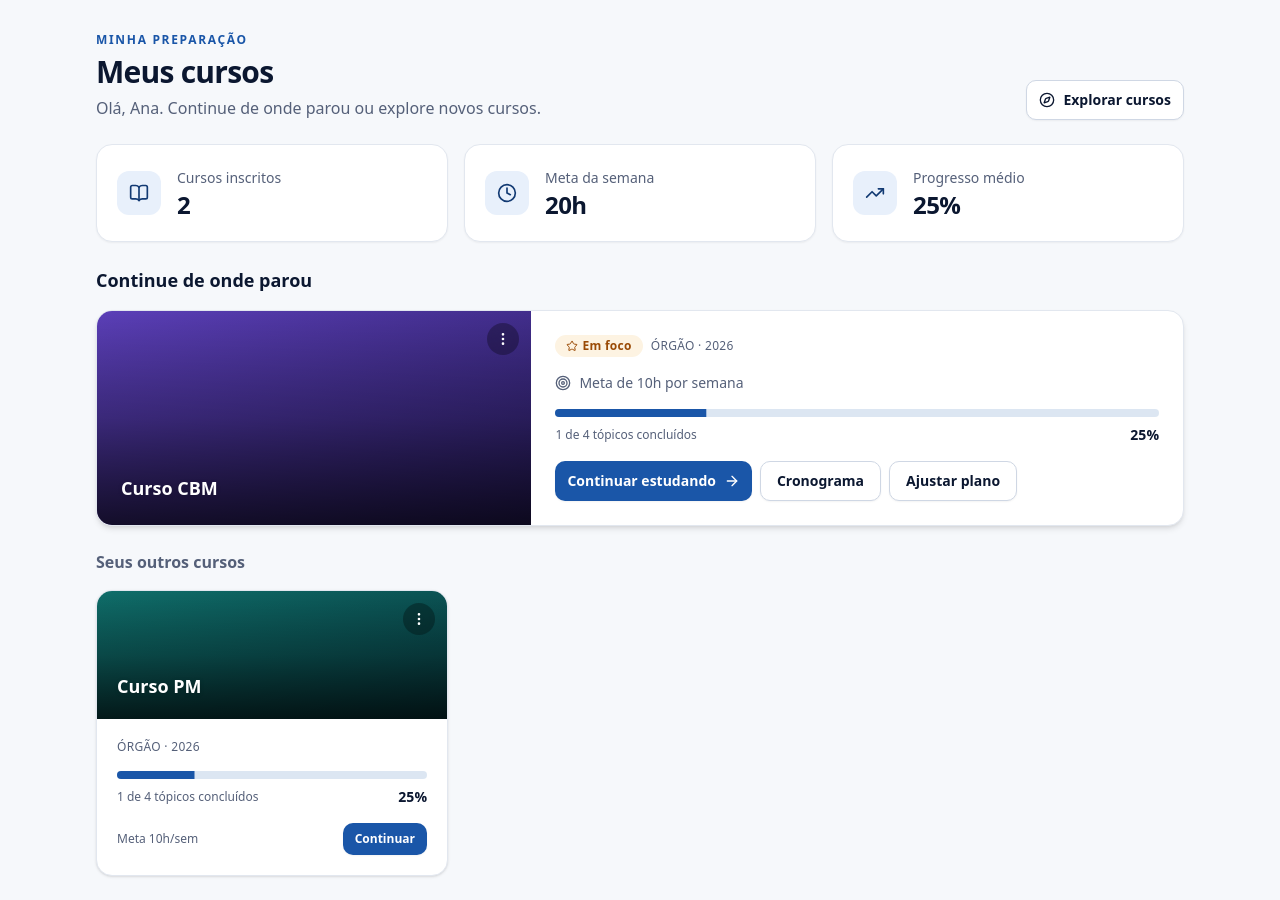
it: Meus cursos › cancela a inscricao somente depois de confirmar
Expected: the heading "Curso PM" is shown, left=117, top=674, right=202, bottom=698
Click the button named "Mais opções de Curso PM" at (419, 619), box left=403, top=603, right=435, bottom=635
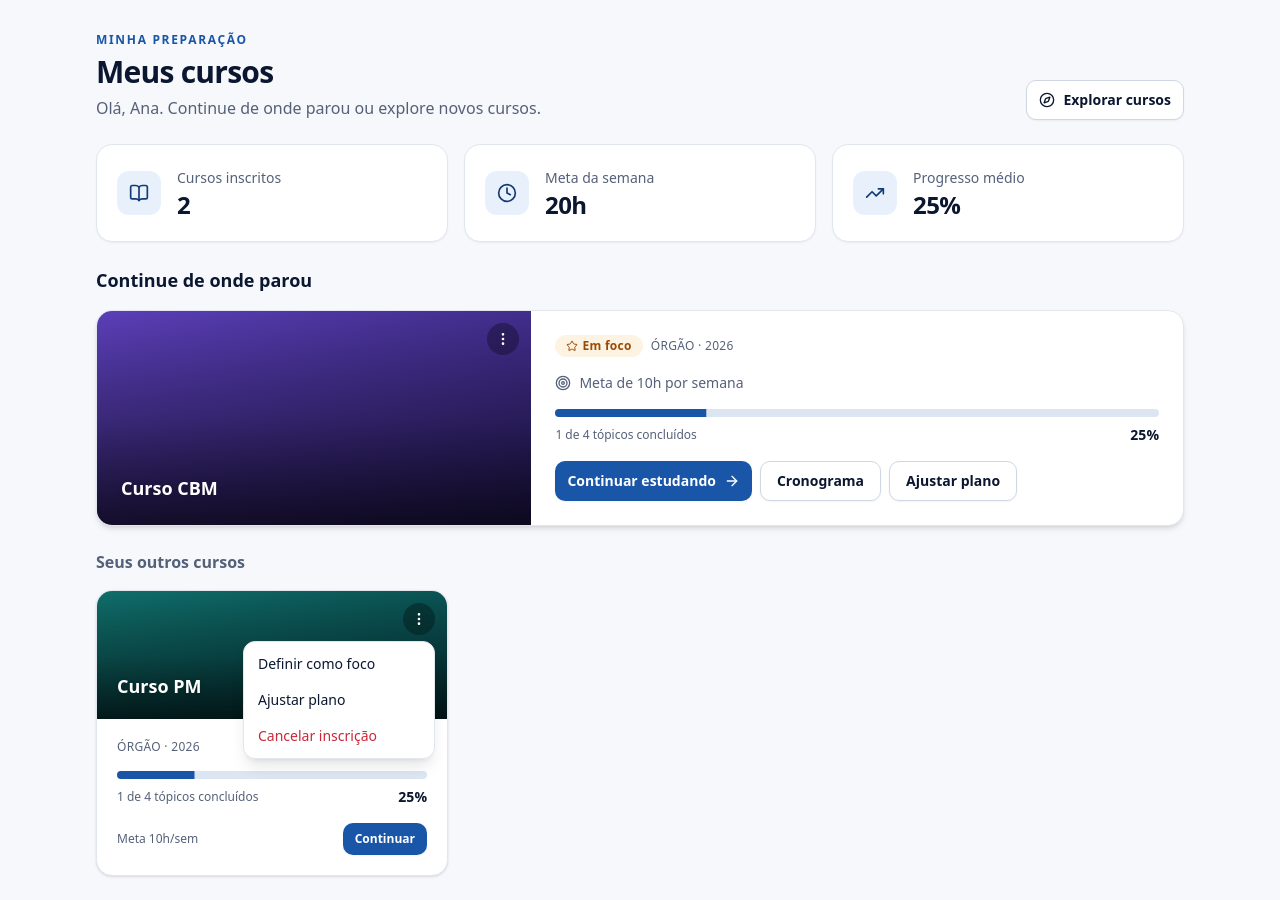
Click the menu item "Cancelar inscrição" at (318, 736), box left=258, top=726, right=377, bottom=745
(page scrolled)
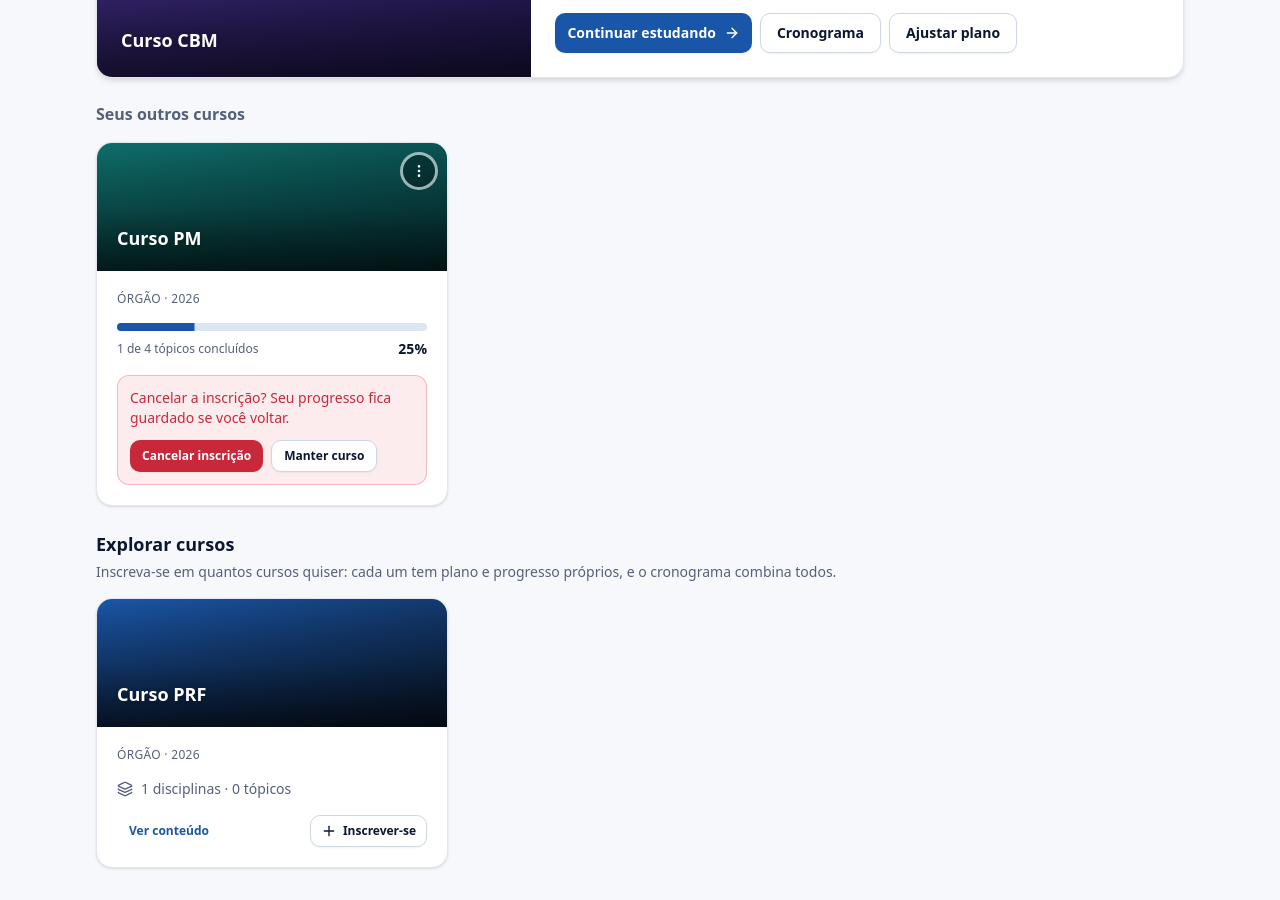
Expected: the text "Seu progresso fica guardado" is shown, left=130, top=388, right=391, bottom=427
Click the button "Cancelar inscrição" at (197, 456), box left=130, top=440, right=263, bottom=472
(page scrolled)
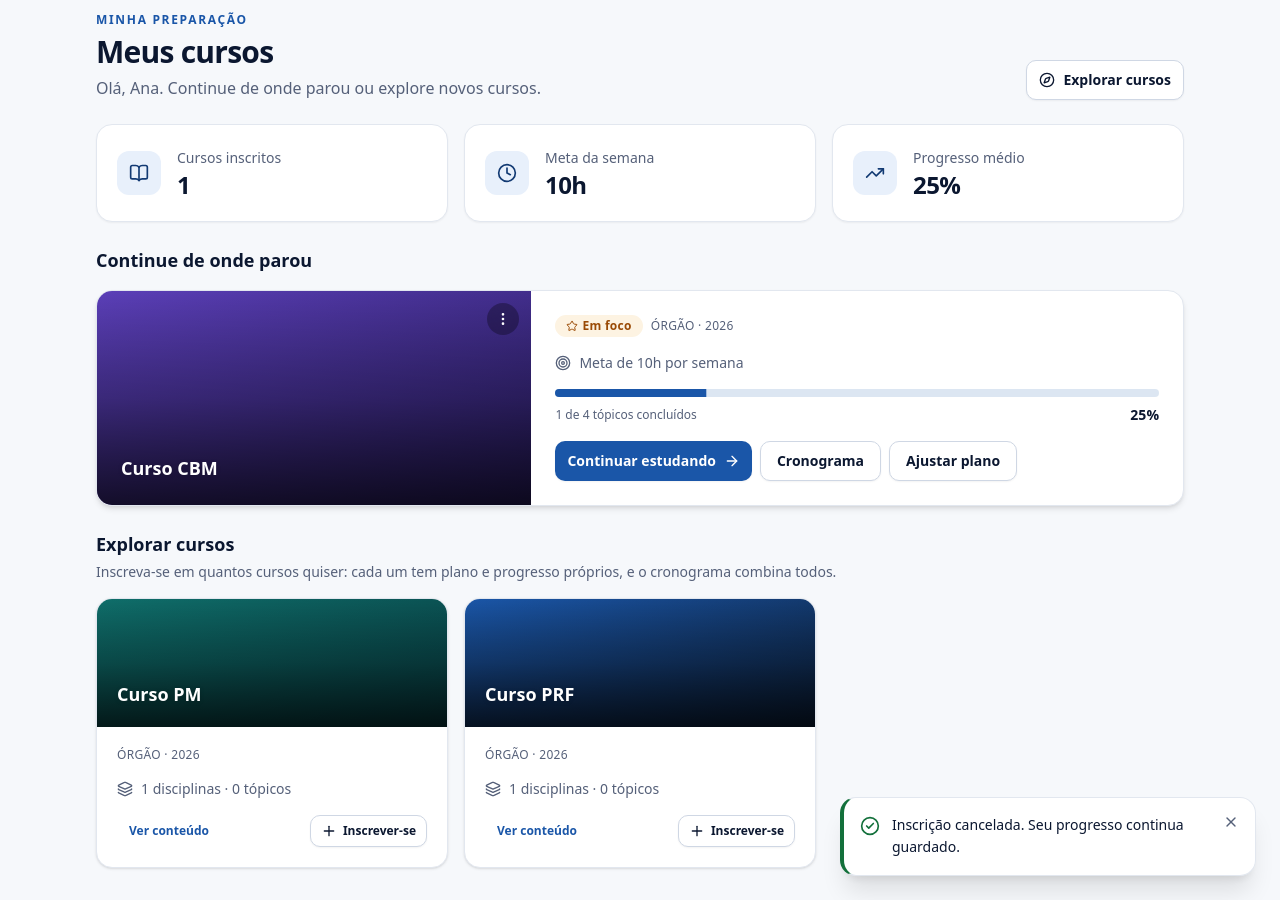
Expected: the text "Inscrição cancelada. Seu progresso continua guardado." is shown, left=892, top=814, right=1211, bottom=859
Expected: the element "Explorar cursos" shows "Curso PM", left=117, top=682, right=202, bottom=706
